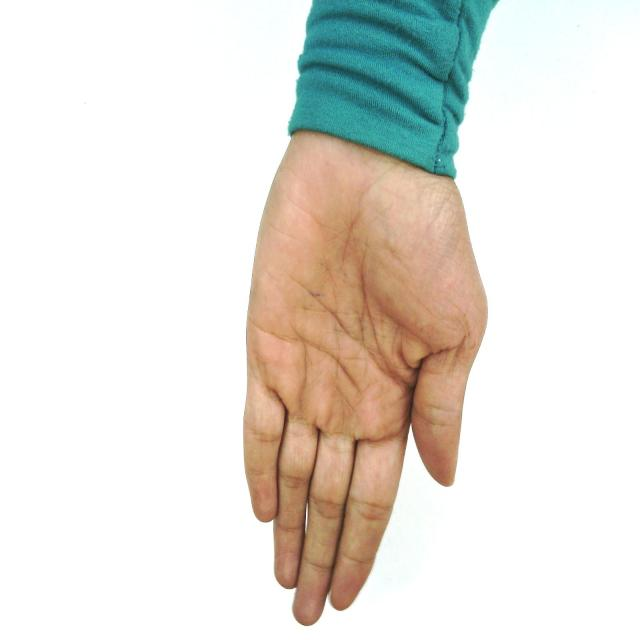hand: (240, 184, 489, 625)
